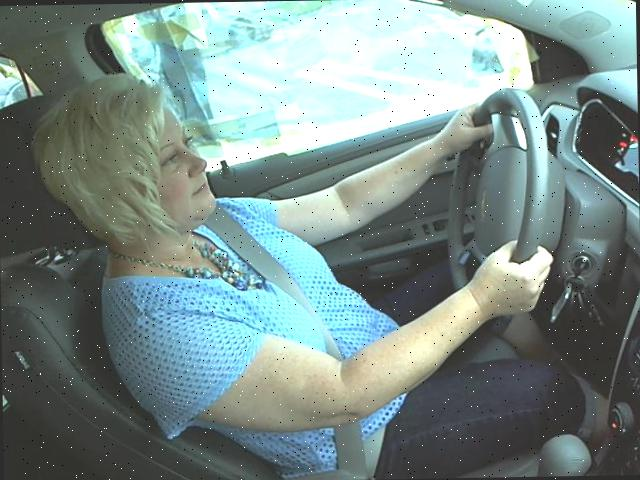c0 - Safe Driving: (28, 65, 558, 417)
